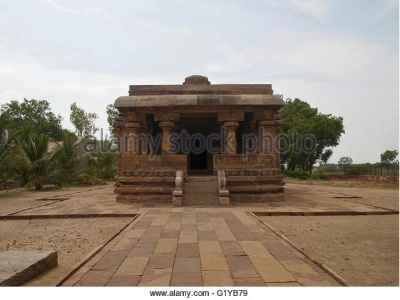mandapa: (90, 75, 306, 190)
